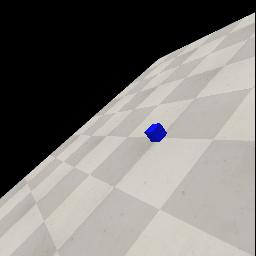box: (144, 123, 167, 142)
